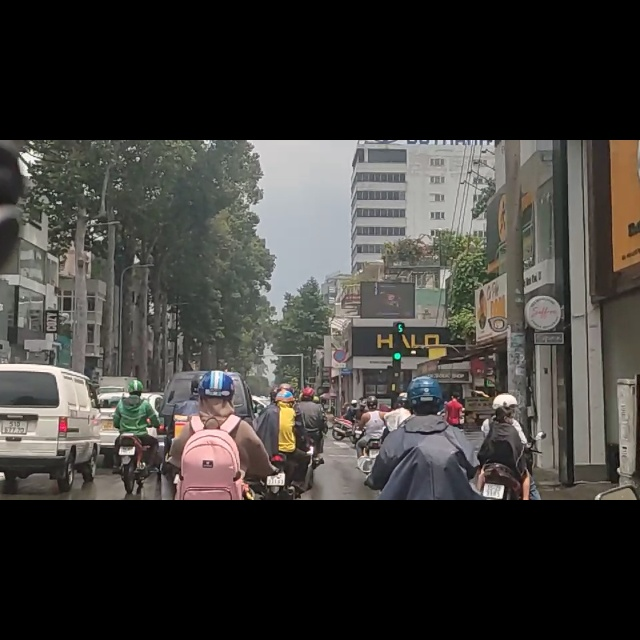bien_cam: (331, 371, 347, 398)
